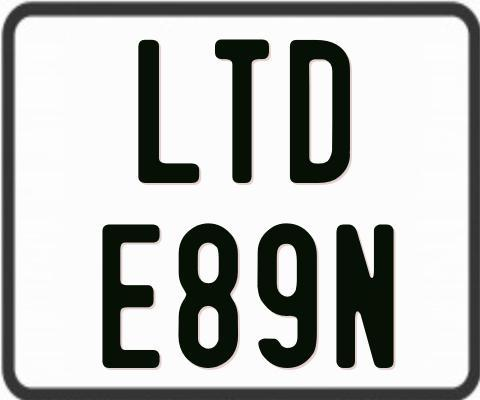8: (178, 222, 240, 370)
9: (255, 223, 320, 370)
D: (289, 37, 349, 180)
E: (102, 223, 164, 372)
L: (135, 38, 199, 186)
N: (336, 223, 396, 371)
T: (212, 40, 266, 186)
